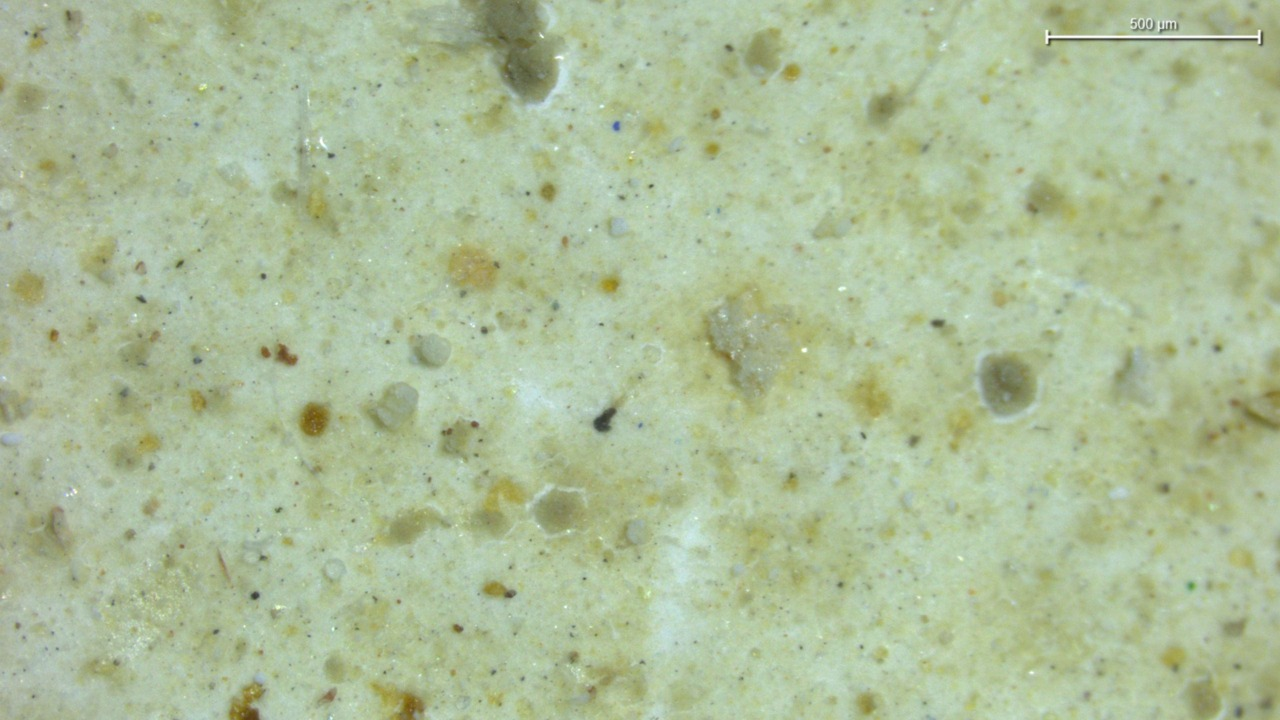microplastic_fragment: (708, 293, 791, 396), (369, 382, 418, 430), (412, 334, 451, 367)
